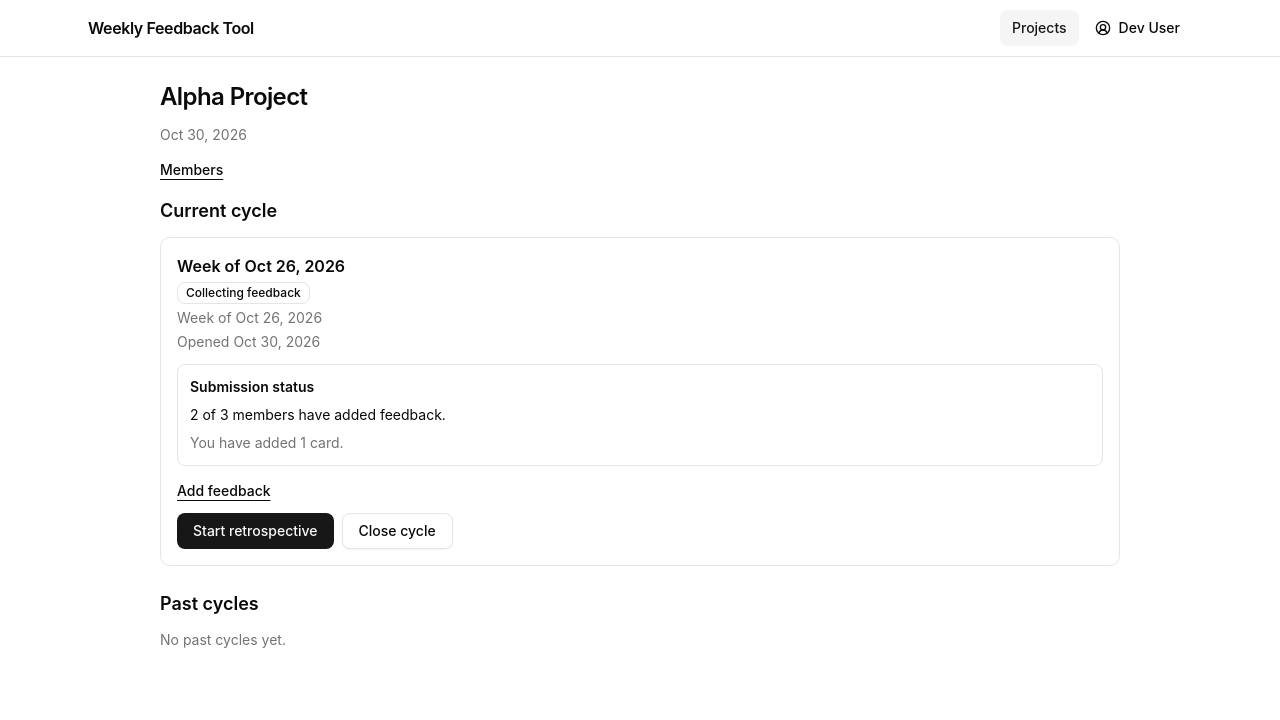
Test: SubmissionStatus requests › goes away when the facilitator closes the cycle
Click the button "Close cycle" at [397, 531], box [342,513,453,549]
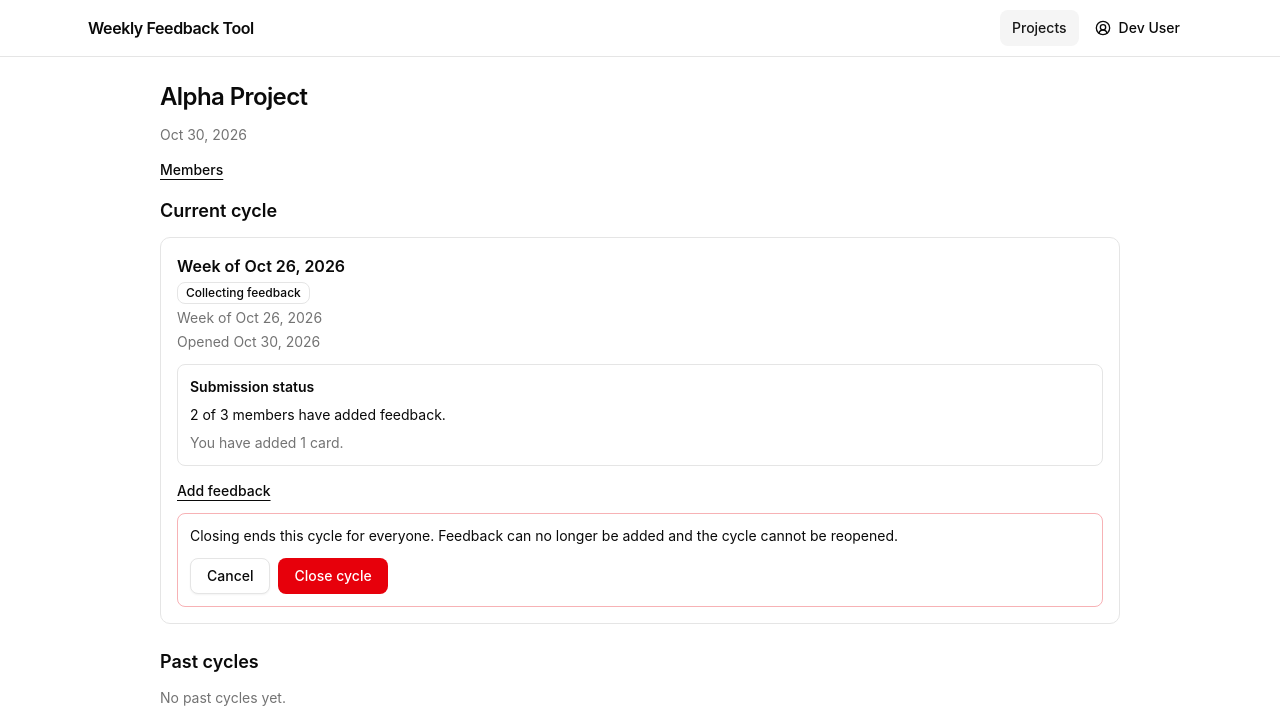
Click the button "Close cycle" at [333, 576], box [278,558,388,594]
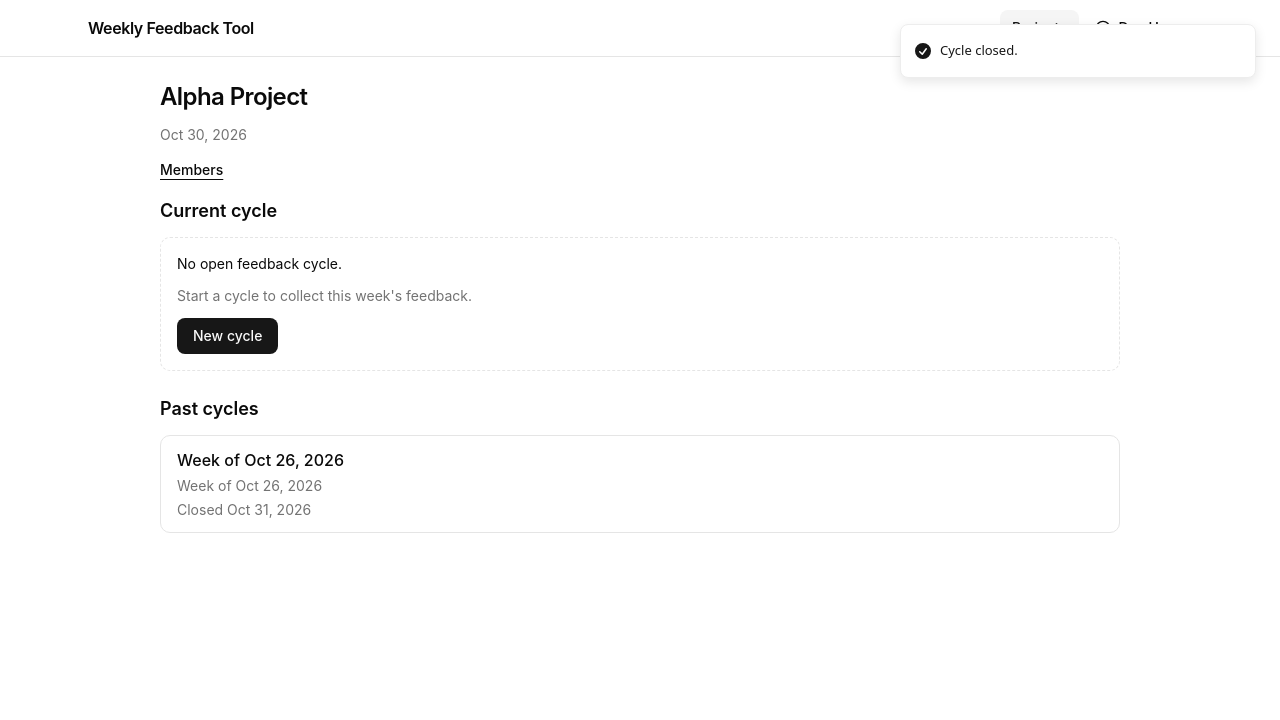
Result: the text "No open feedback cycle." is shown at [177,255,342,272]
Result: the heading "Submission status" is gone
